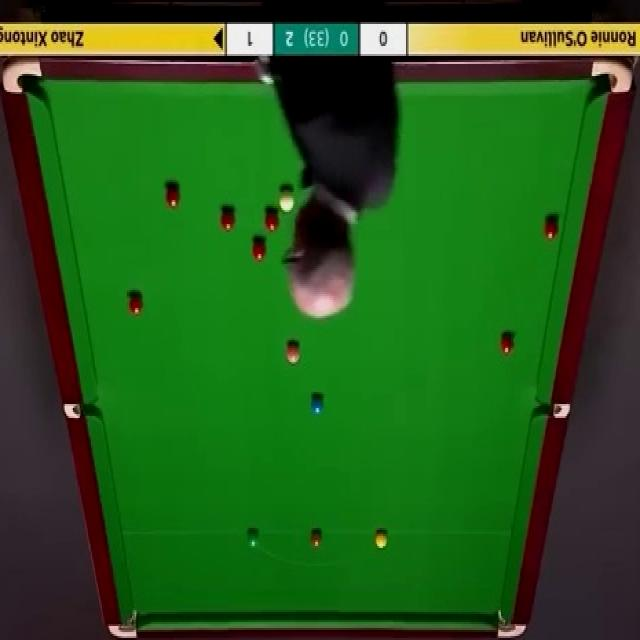blue-ball: (310, 394, 325, 418)
brown-ball: (310, 530, 323, 550)
green-ball: (247, 530, 260, 551)
pink-ball: (286, 342, 300, 366)
red-ball: (127, 290, 144, 316), (163, 184, 181, 206), (499, 332, 517, 354), (250, 238, 268, 260), (219, 210, 235, 232), (544, 218, 560, 238), (264, 209, 278, 230)
white-ball: (279, 187, 297, 213)
yellow-ball: (375, 530, 387, 550)
